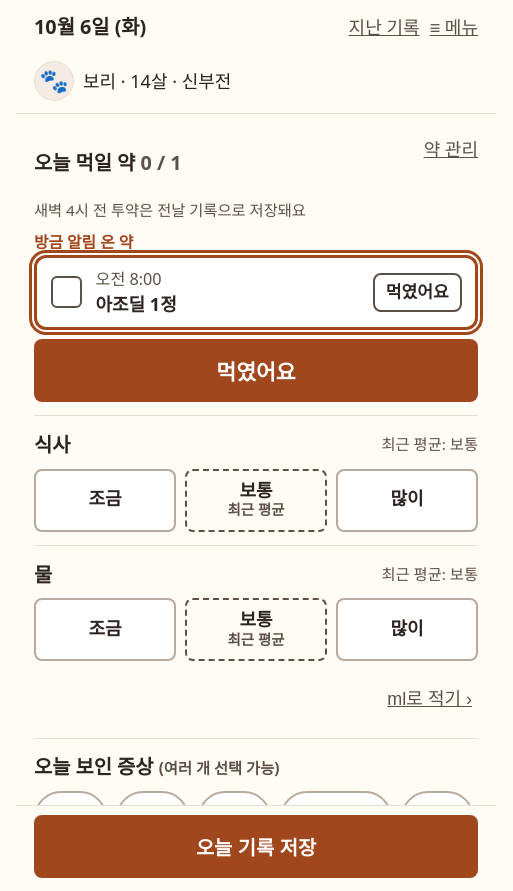
Test: 오늘 화면 큰 버튼 — QA 경계 › 체크 후 [되돌리기]를 누르면 DELETE 로 풀리고 큰 버튼이 다시 보인다(알림으로 연 화면 정합)
Click the button "먹였어요": (256, 370) [34,339,478,402]
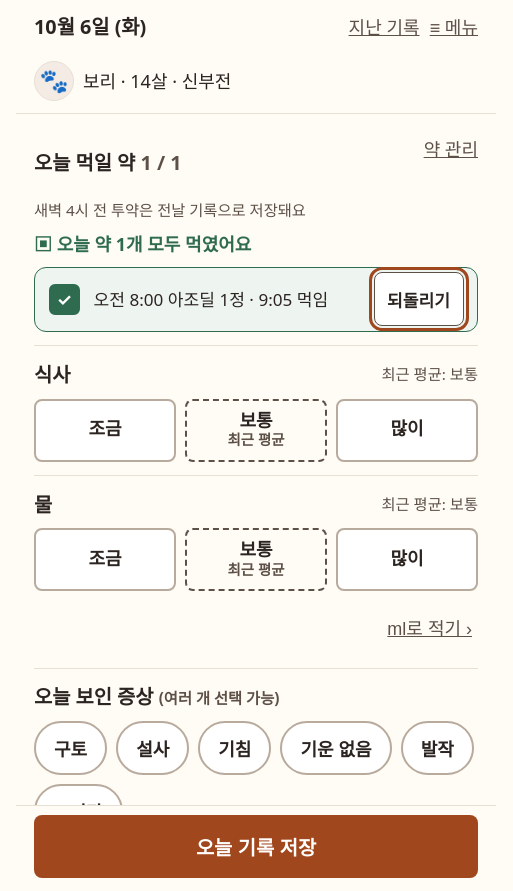
Click the button "되돌리기": (418, 299) [374,272,464,326]
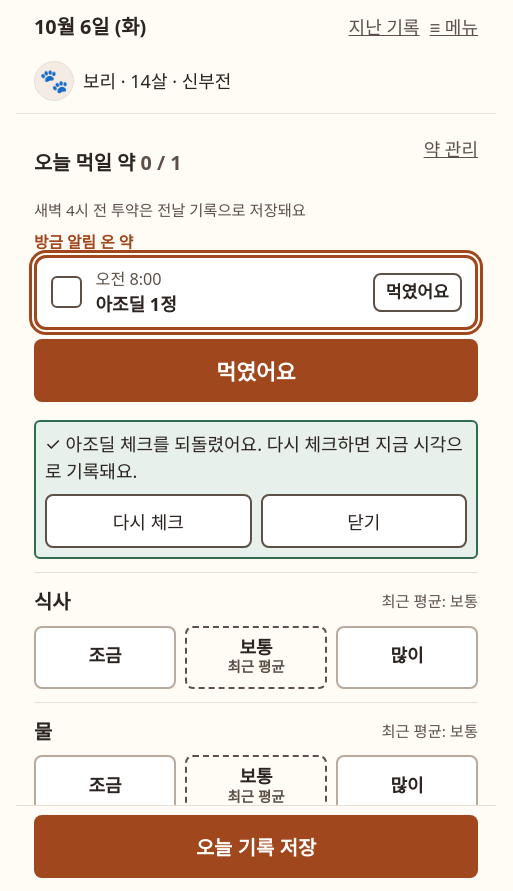
Result: the number of buttons named "먹였어요 체크" is 1 at [34,339,478,402]
